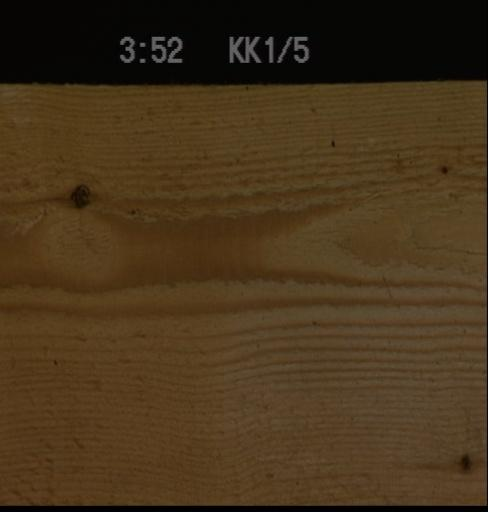dry_knot: (68, 180, 92, 208)
small_knot: (456, 450, 472, 470), (437, 161, 447, 175)
